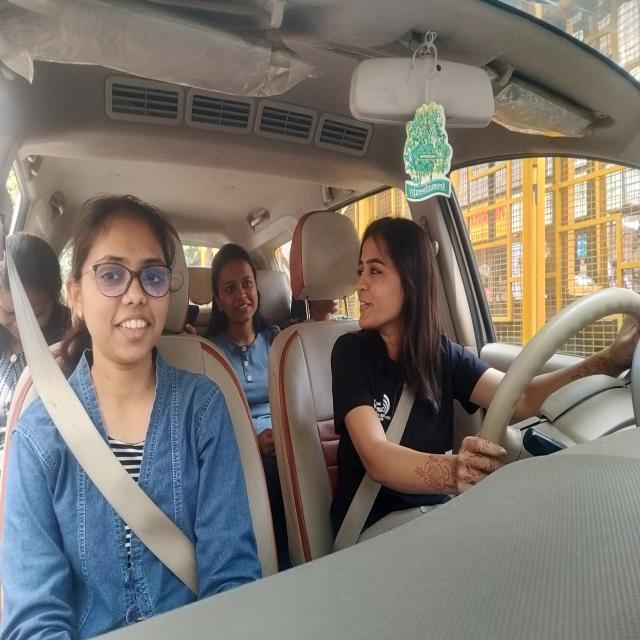LeftRight: (346, 222, 444, 346)
person: (74, 196, 180, 370), (3, 236, 63, 345), (205, 242, 270, 336), (299, 300, 347, 322)
talking: (108, 314, 156, 339), (356, 292, 376, 317)
